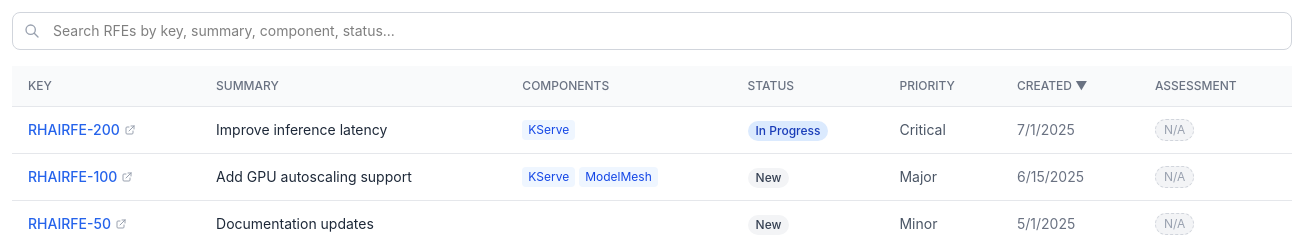
Test: RfeBacklogTable › shows no-match message for empty search results
The image size is (1304, 252).
Type "nonexistent-query-xyz" into the field with placeholder "Search RFEs by key, summary, component, status...".
click(652, 31); type("nonexistent-query-xyz")  # box [12,12,1292,50]
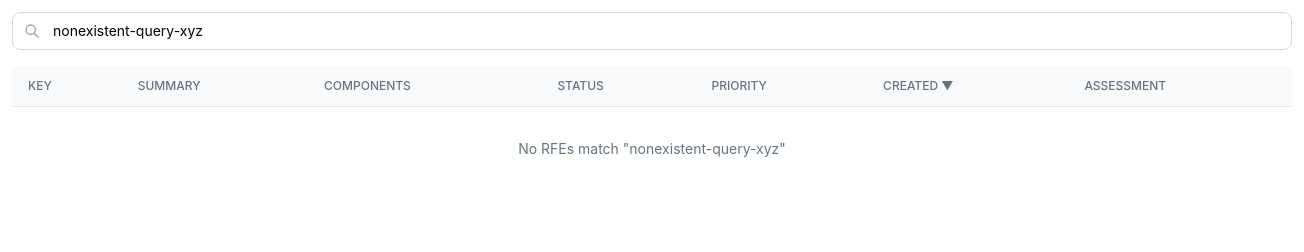
Expected: the text "No RFEs match" is shown, [518,140,786,157]
